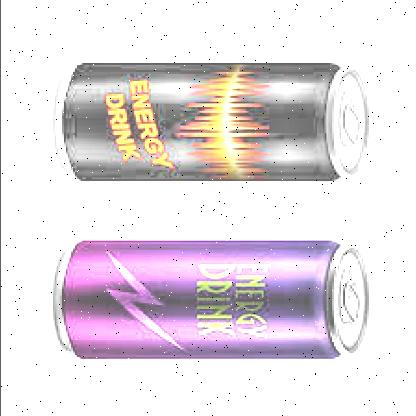Can: (35, 235, 375, 367), (47, 56, 375, 190)
